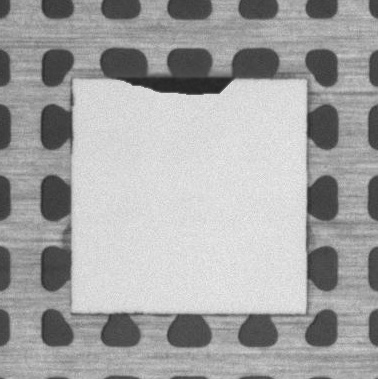DIE_BROKEN: (119, 74, 238, 99)
